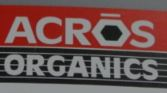AcrosOrganics: (4, 12, 160, 81)
